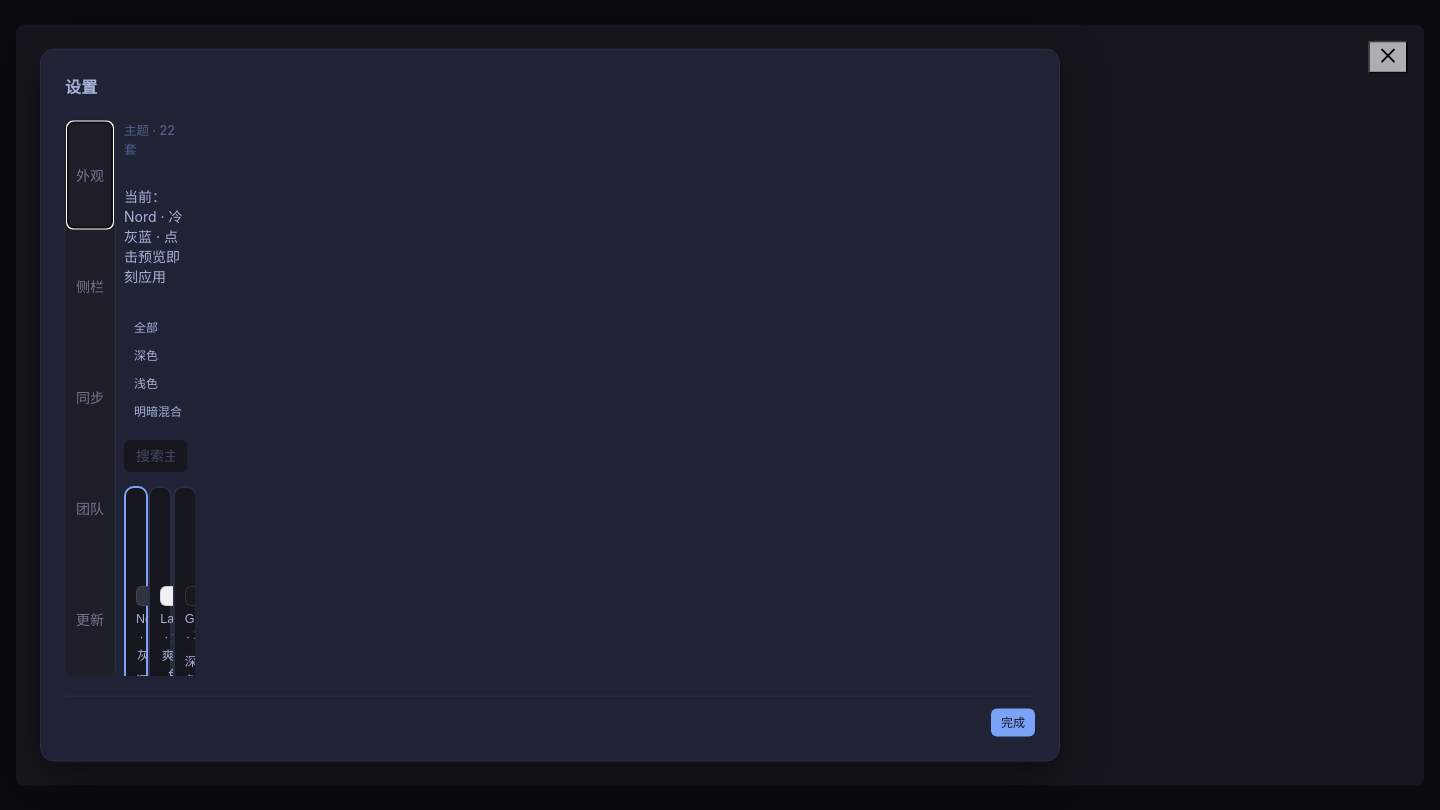
Scenario: accepts a repository URL and tests access without sending the encryption password
Press the mouse on the tab "同步": [90, 398] box [68,345,112,450]
(page scrolled)
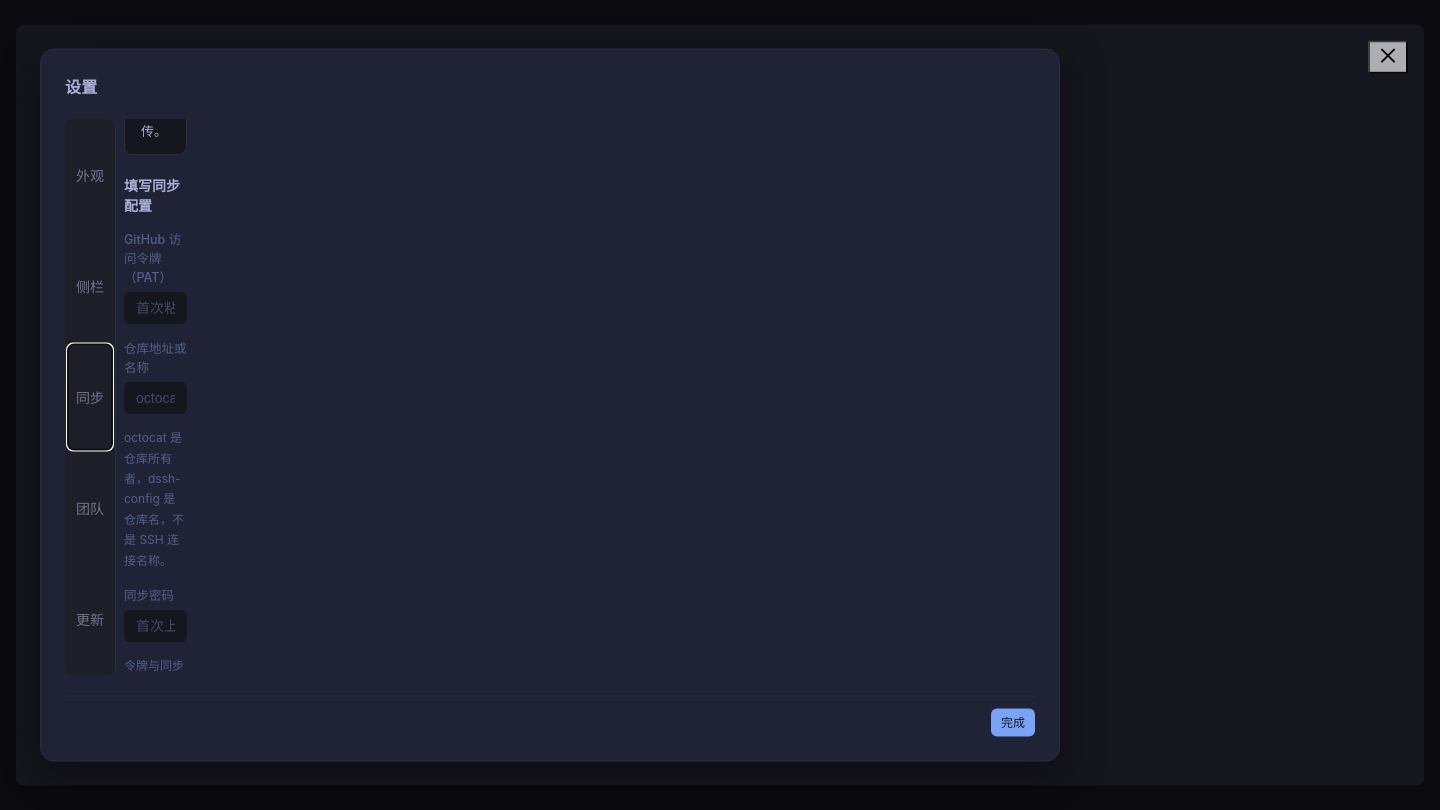
In the field labelled "仓库地址或名称": [156, 398] box [124,382,187,414], type "https://github.com/example/dssh-config/"
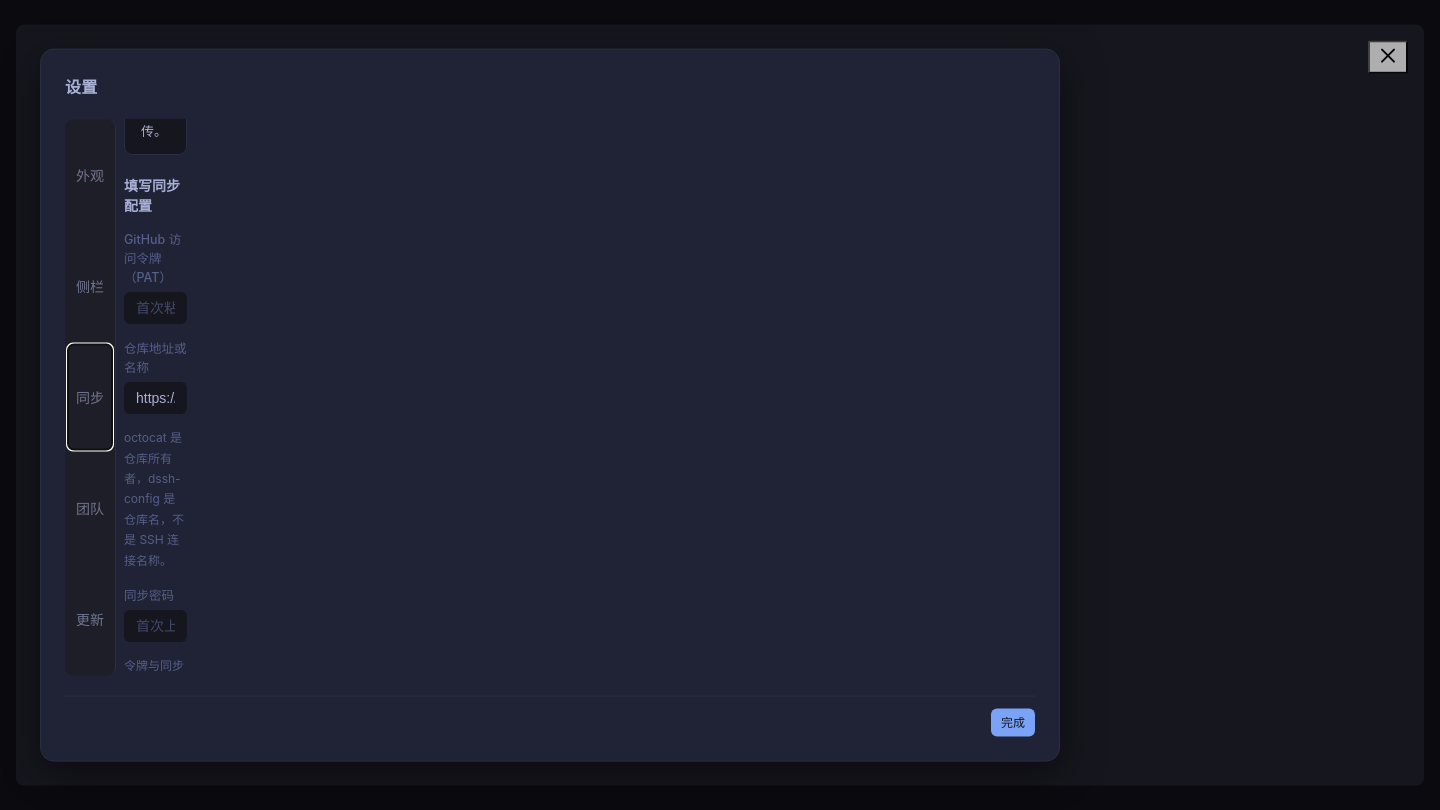
In the password field labelled "同步密码": [156, 626] box [124,610,187,642], type "synthetic-test-only"
(page scrolled)
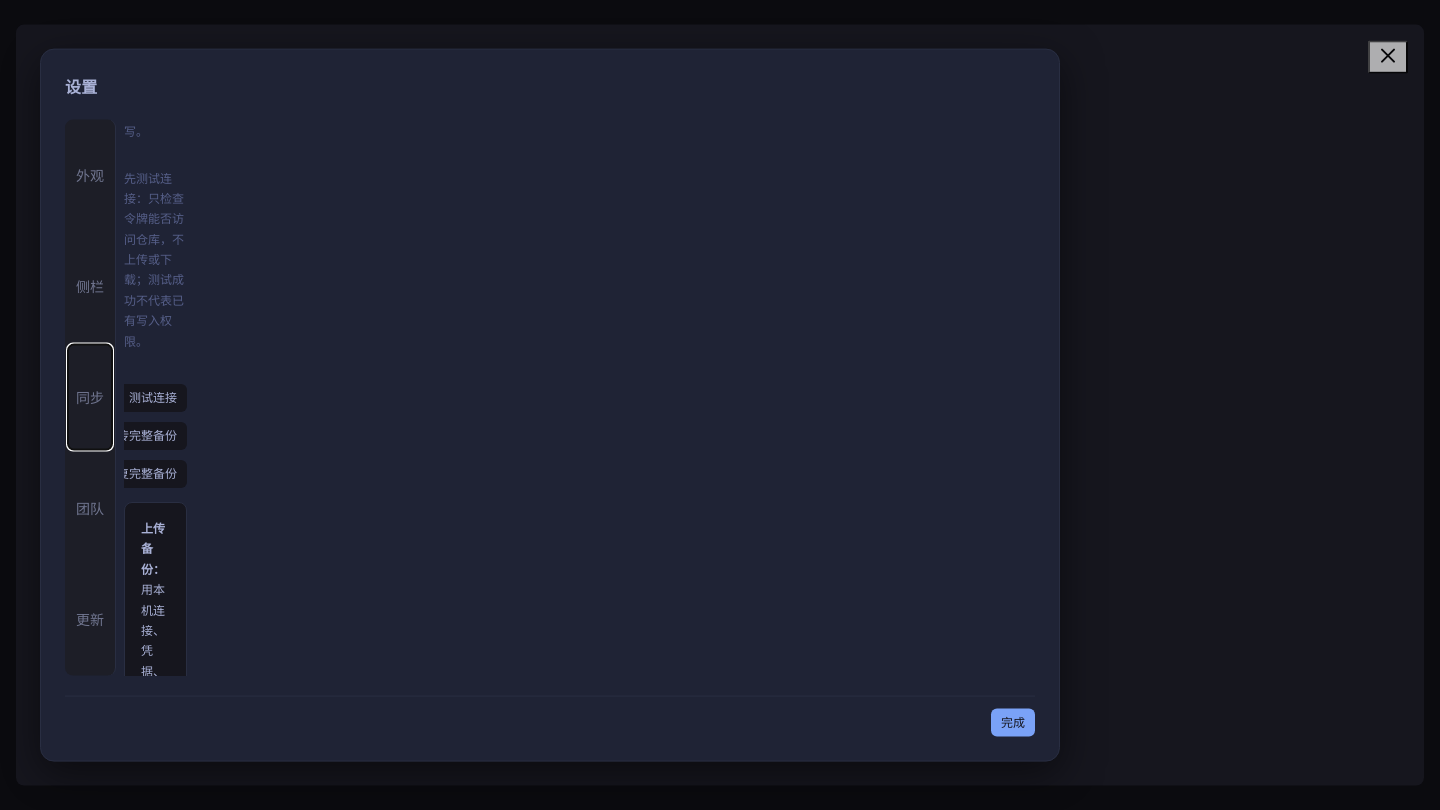
Click the button "测试连接": [153, 398] box [119,384,187,412]
(page scrolled)
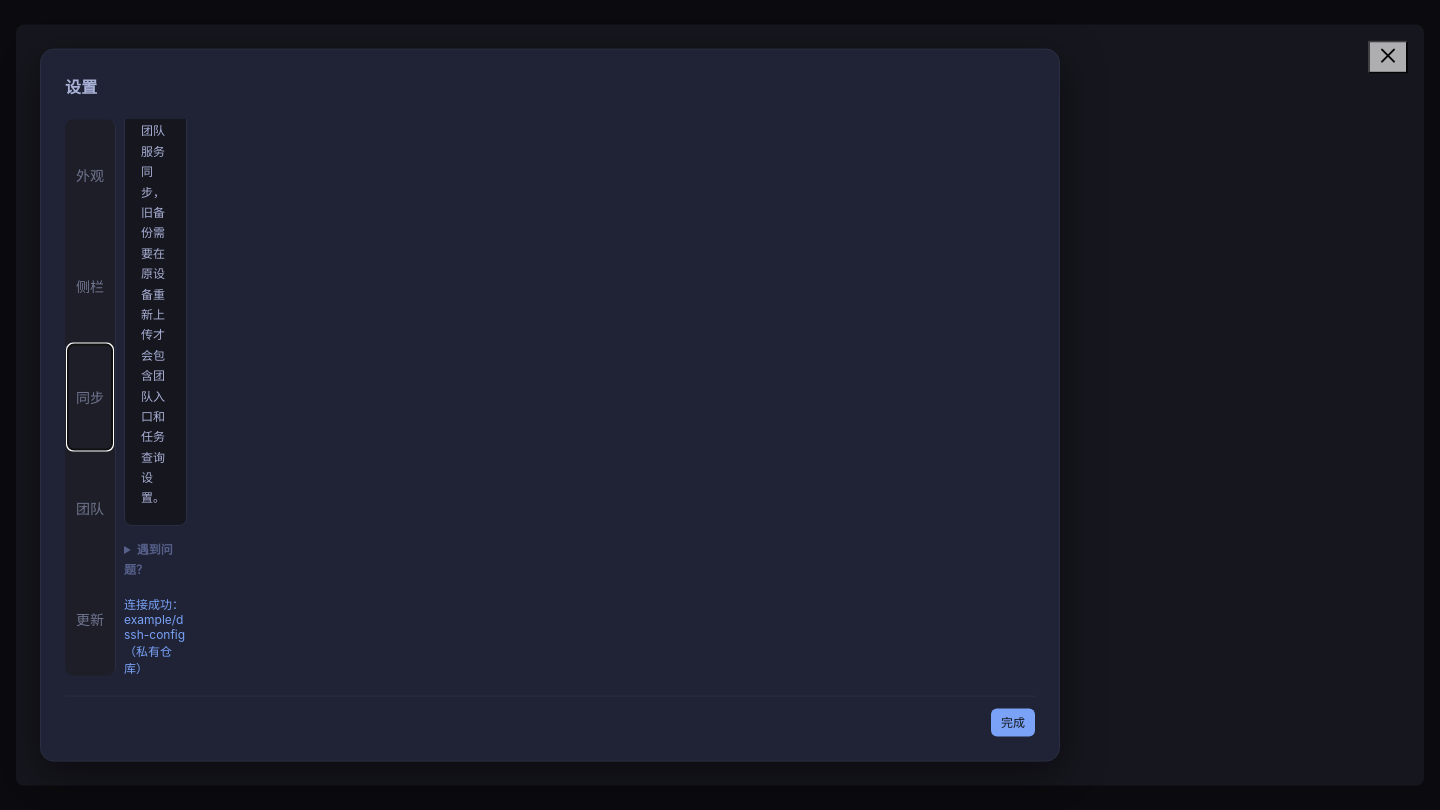
Expected: the text "连接成功：example/dssh-config（私有仓库）" is shown, [124,594,187,675]
